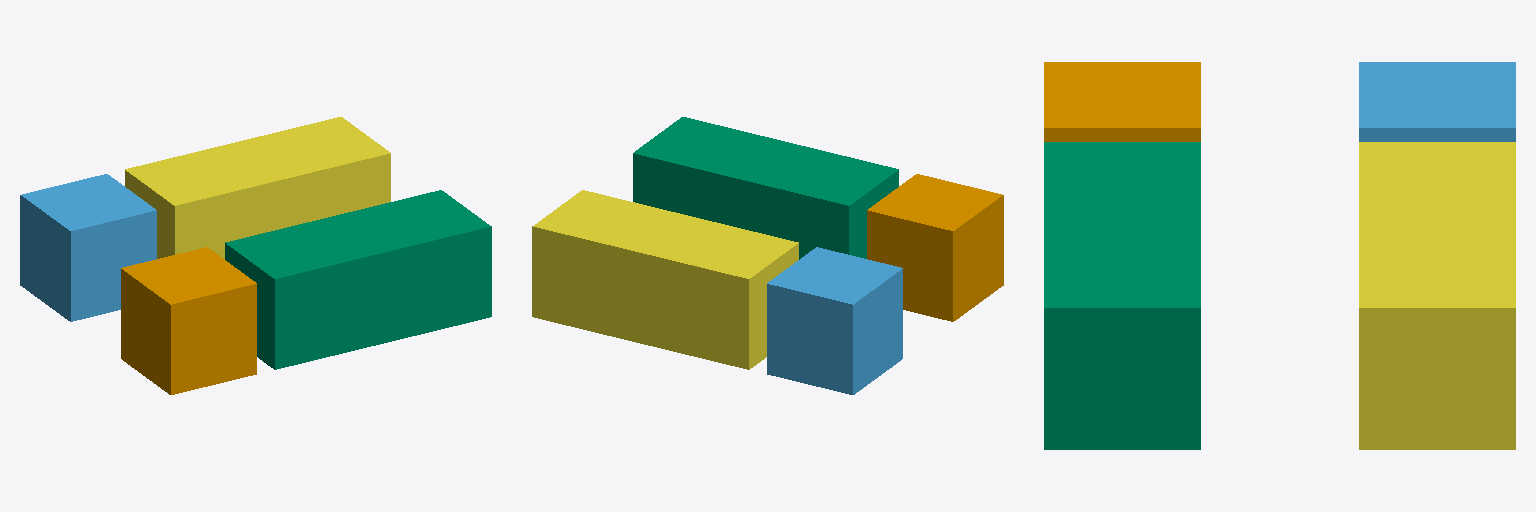
robot.urdf — mimic_joint:
<?xml version="1.0"?>
<robot name="mimic_joint">
    <link name="BaseLinkA">
        <visual>
            <origin rpy="0 0 0" xyz="-0.12 0 0"/>
            <geometry>
                <box size="0.2 0.2 0.2"/>
            </geometry>
        </visual>
    </link>
    <link name="BaseLinkB">
        <visual>
            <origin rpy="0 0 0" xyz="-0.12 0 0"/>
            <geometry>
                <box size="0.2 0.2 0.2"/>
            </geometry>
        </visual>
    </link>

    <link name="linkA">
        <visual>
            <origin rpy="0 0 0" xyz="0.27 0 0"/>
            <geometry>
                <box size="0.5 0.2 0.2"/>
            </geometry>
        </visual>
    </link>

    <link name="linkB">
        <visual>
            <origin rpy="0 0 0" xyz="0.27 0 0"/>
            <geometry>
                <box size="0.5 0.2 0.2"/>
            </geometry>
        </visual>
    </link>

    <joint name="joint_base" type="fixed">
        <origin rpy="0 0 0" xyz="0 0.4 0"/>
        <parent link="BaseLinkA"/>
        <child link="BaseLinkB"/>
    </joint>
    <joint name="jointA" type="revolute">
        <origin rpy="0 0 0" xyz="0 0 0"/>
        <parent link="BaseLinkA"/>
        <child link="linkA"/>
        <axis xyz="0 1 0"/>
        <limit lower="-0.7" upper="0.5"/>
    </joint>
    <joint name="jointB" type="revolute">
        <origin rpy="0 0 0" xyz="0 0 0"/>
        <parent link="BaseLinkB"/>
        <child link="linkB"/>
        <axis xyz="0 1 0"/>
        <limit lower="-0.7" upper="0.5"/>
        <mimic joint="jointA" multiplier="2.0" offset="0.0"/>
    </joint>
</robot>

--- Facts derived from the render (not from the file) ---
The picture shows the robot from 3 angles, left to right: view 1: azimuth 30°, elevation 25°; view 2: azimuth 150°, elevation 25°; view 3: azimuth 270°, elevation 25°; orthographic projection.
Model mimic_joint with 4 links and 3 joints (2 revolute, 1 fixed), rooted at BaseLinkA, posed every joint at zero.
Visible links, largest first — view 1: linkA, linkB, BaseLinkA, BaseLinkB; view 2: linkB, linkA, BaseLinkB, BaseLinkA; view 3: linkA, linkB, BaseLinkA, BaseLinkB.
Link boxes in pixels (x1=…): linkA: x1=225, y1=190, x2=491, y2=369; linkB: x1=125, y1=117, x2=390, y2=259; BaseLinkA: x1=121, y1=247, x2=256, y2=394; BaseLinkB: x1=20, y1=174, x2=156, y2=321; linkB: x1=532, y1=190, x2=798, y2=369; linkA: x1=633, y1=117, x2=898, y2=259; BaseLinkB: x1=767, y1=247, x2=902, y2=394; BaseLinkA: x1=867, y1=174, x2=1003, y2=321; linkA: x1=1044, y1=142, x2=1200, y2=449; linkB: x1=1359, y1=142, x2=1515, y2=449; BaseLinkA: x1=1044, y1=62, x2=1200, y2=141; BaseLinkB: x1=1359, y1=62, x2=1515, y2=141.
Size in the robot's own frame: 0.74 by 0.6 by 0.2 metres.
Geometry: primitives only (box / cylinder / sphere), no mesh files.